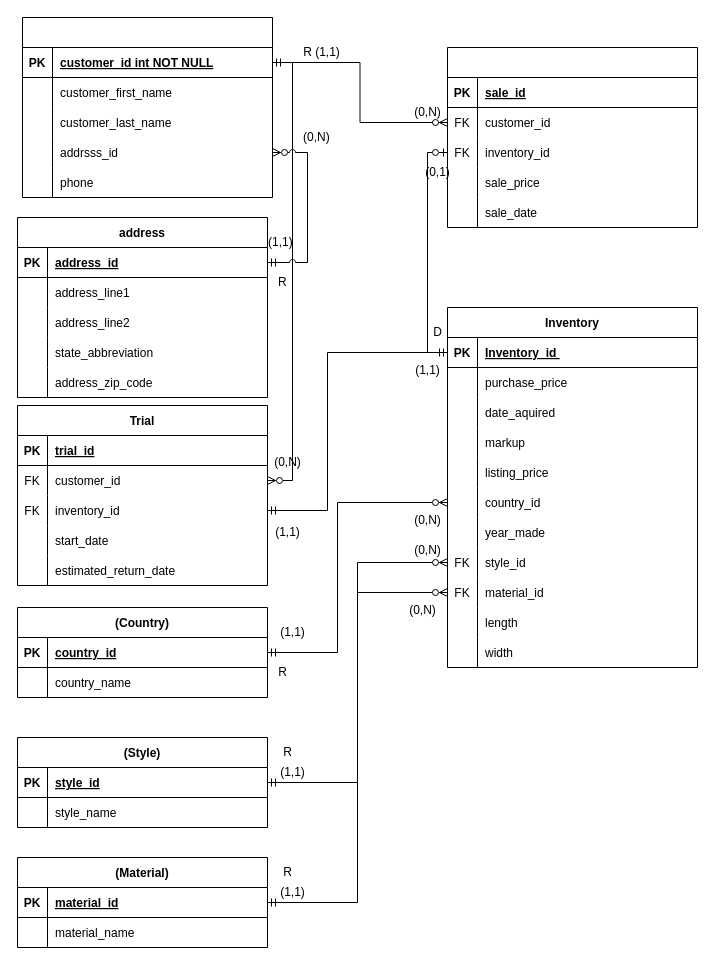
Some shapes in this 715 by 965 pixel diagram are drawn without their labels. The box of each missing label's shape, as (x1, y1, x2, y2) in pixels:
Customers: (22, 16, 272, 198)
Sales: (446, 46, 698, 228)
